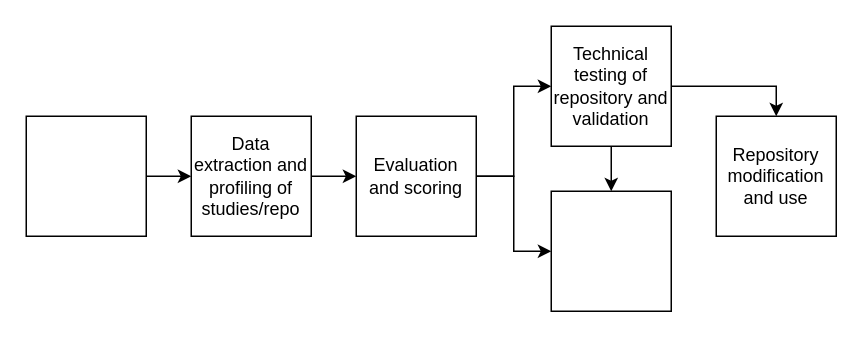
Some shapes in this 863 by 338 pixel diagram are drawn without their labels. The box of each missing label's shape, as (x1, y1, x2, y2) in pixels:
Literature and repository search and screening: (25, 115, 146, 236)
Repository analysis and statistics: (550, 190, 671, 311)
